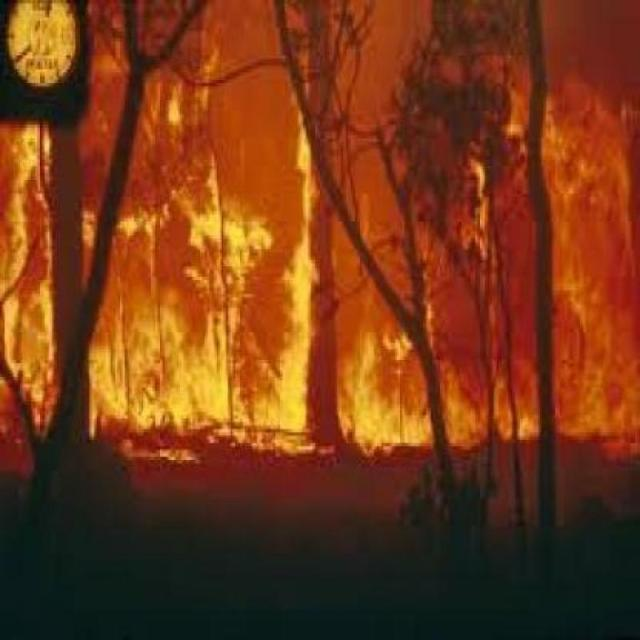Fire: (0, 152, 640, 503)
